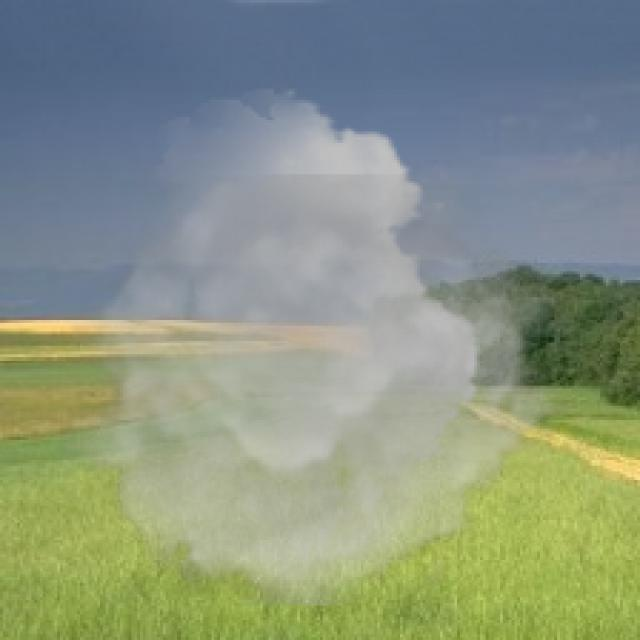smoke: (57, 89, 574, 606)
